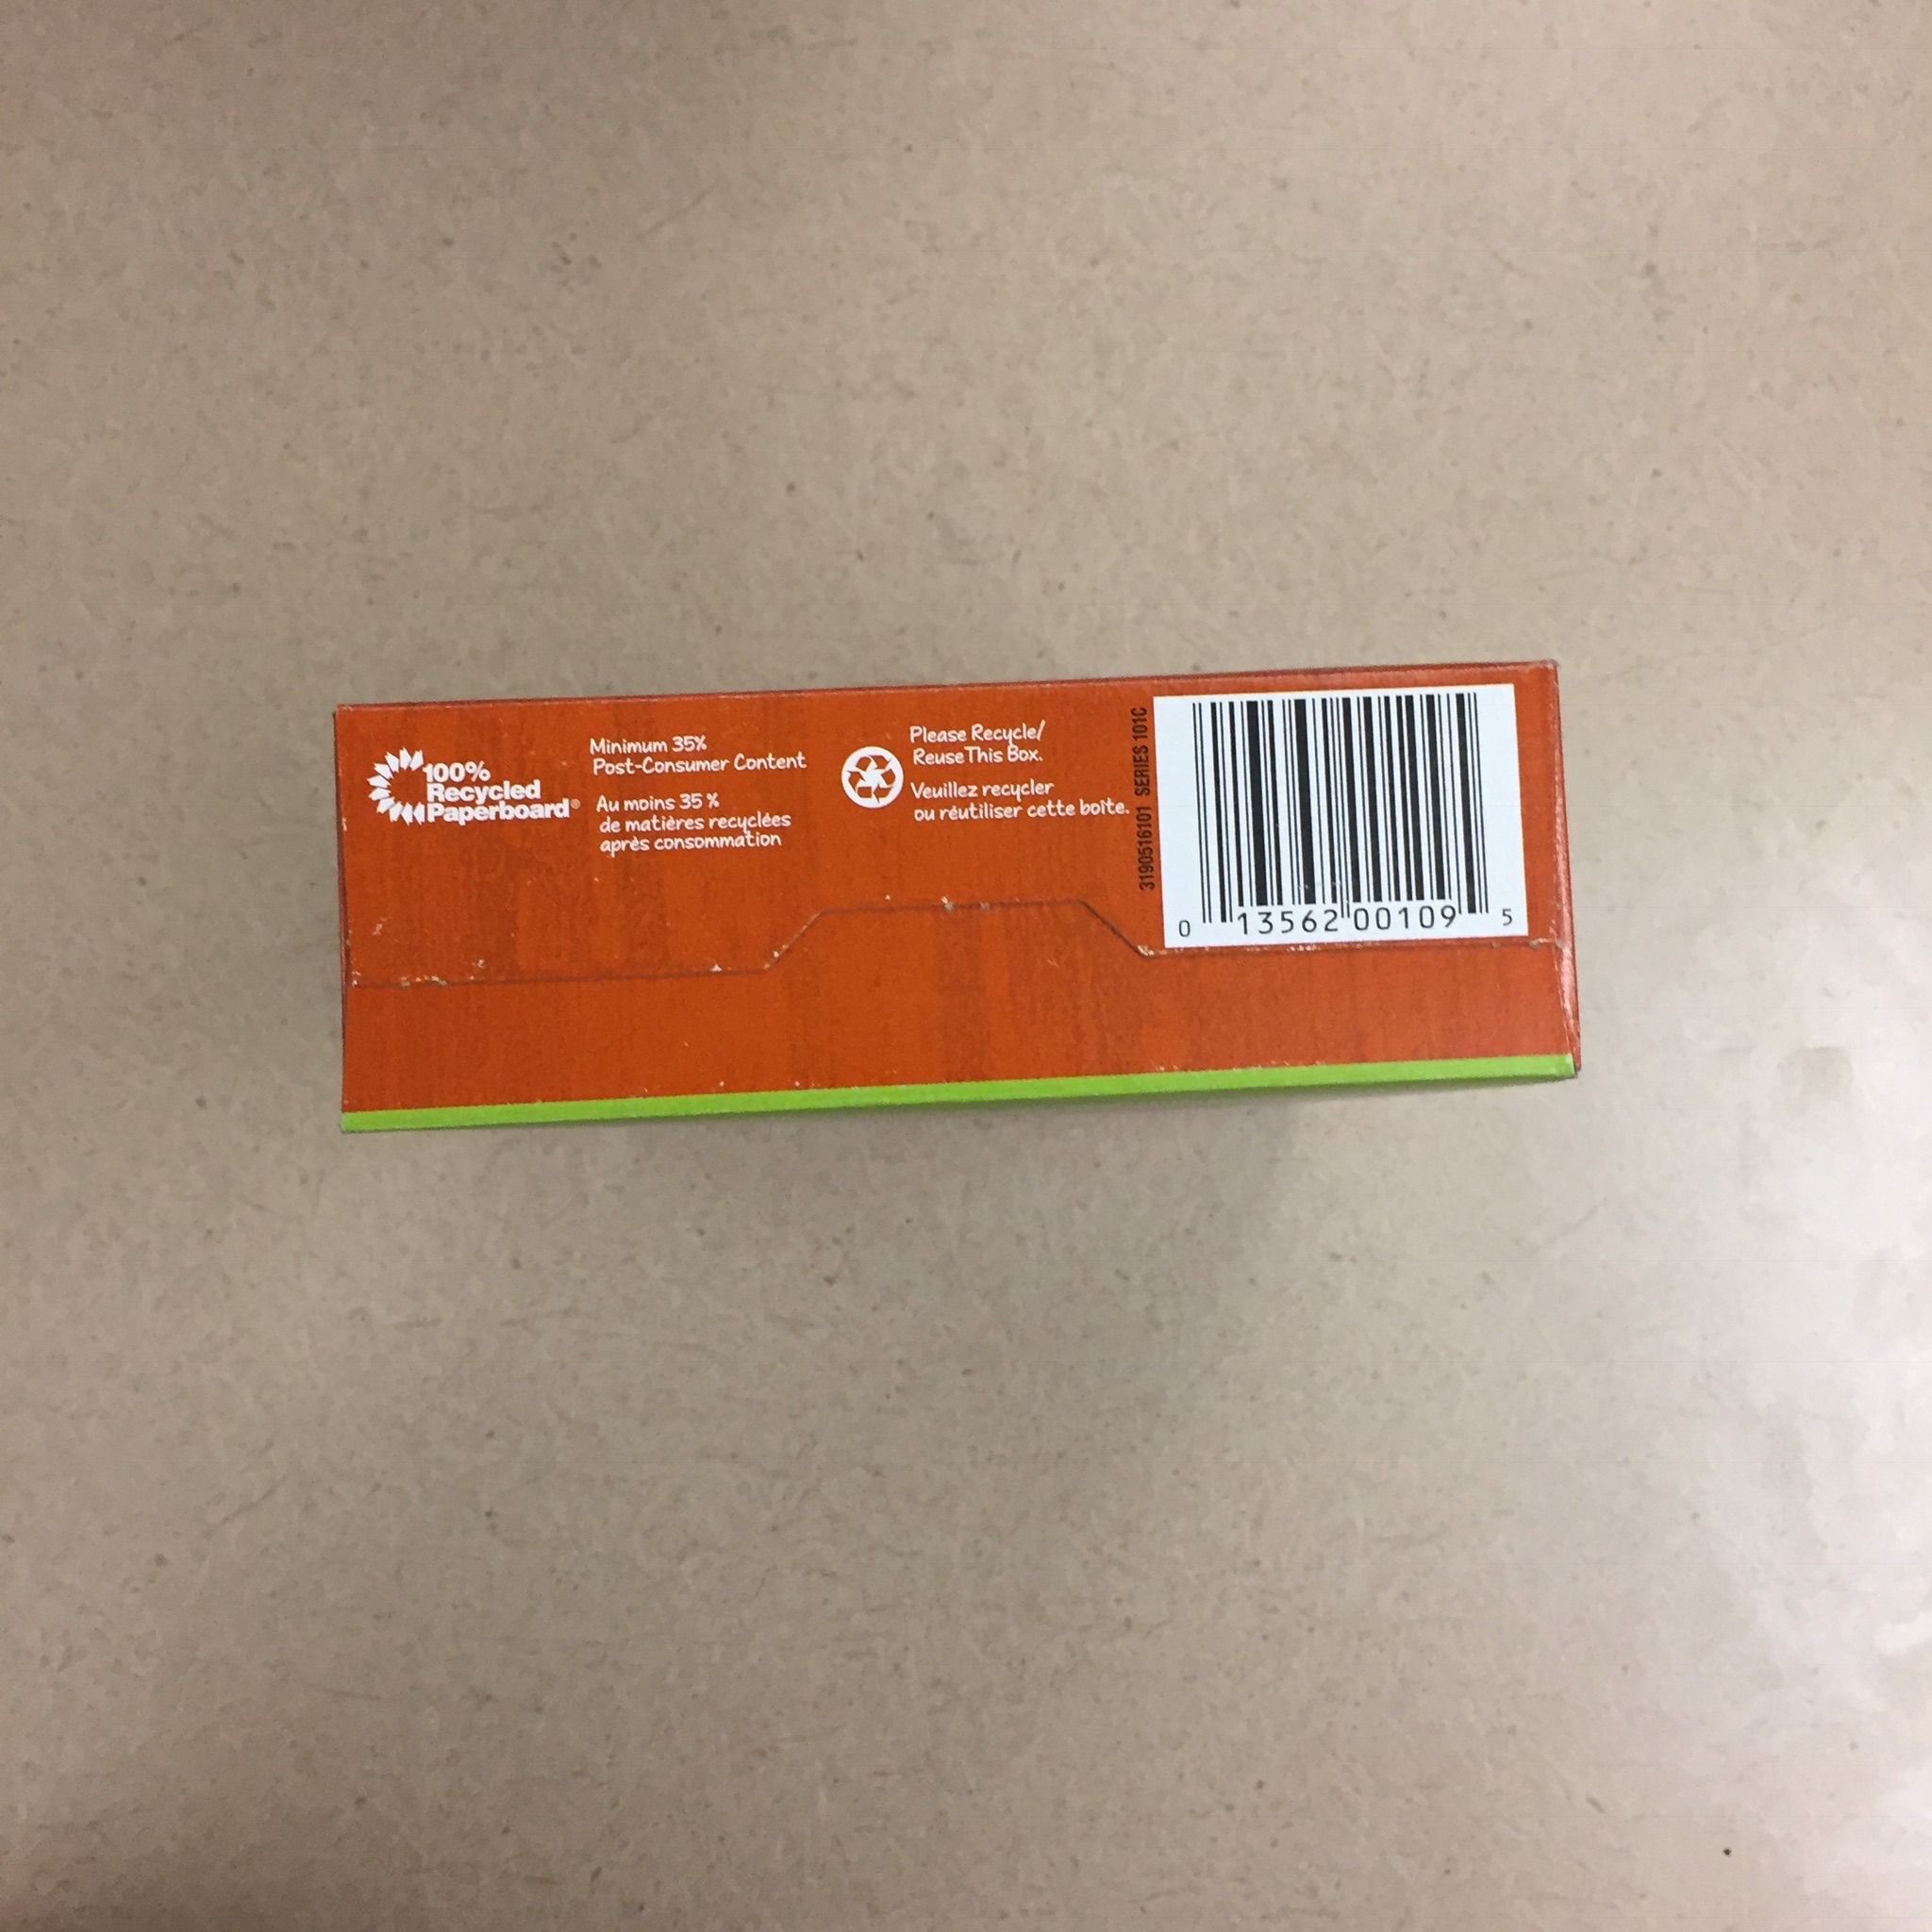annies_snickerdoodle_cinnamon_sugar: (327, 658, 1587, 1139)
